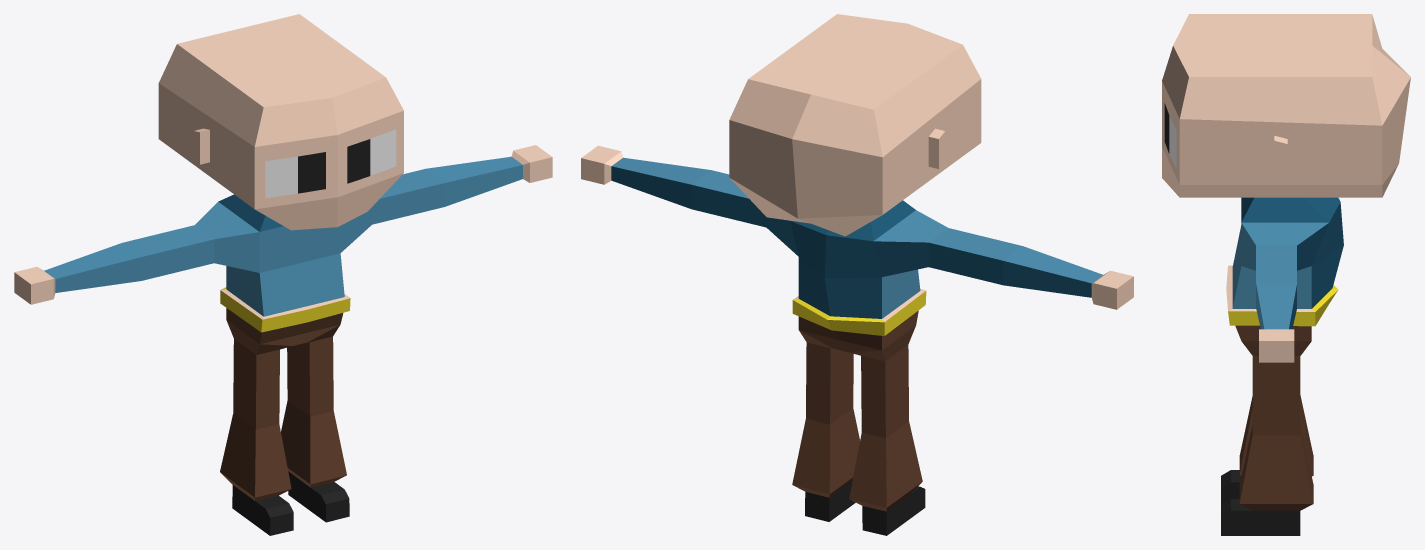
The model's file is man.gltf.
3 renders of one model, left to right at view 1: azimuth 30°, elevation 25°; view 2: azimuth 150°, elevation 25°; view 3: azimuth 270°, elevation 25°, orthographic. The views are drawn at different scales.
Visible parts, largest first — view 1: Cube; view 2: Cube; view 3: Cube.
Boxes of the visible parts, x1=… form: Cube: x1=14, y1=14, x2=552, y2=535; Cube: x1=581, y1=14, x2=1133, y2=535; Cube: x1=1162, y1=14, x2=1410, y2=535.
Bounding box in the file's own units: 4.27 × 3.48 × 1.67.
1 material, 1 textured.
